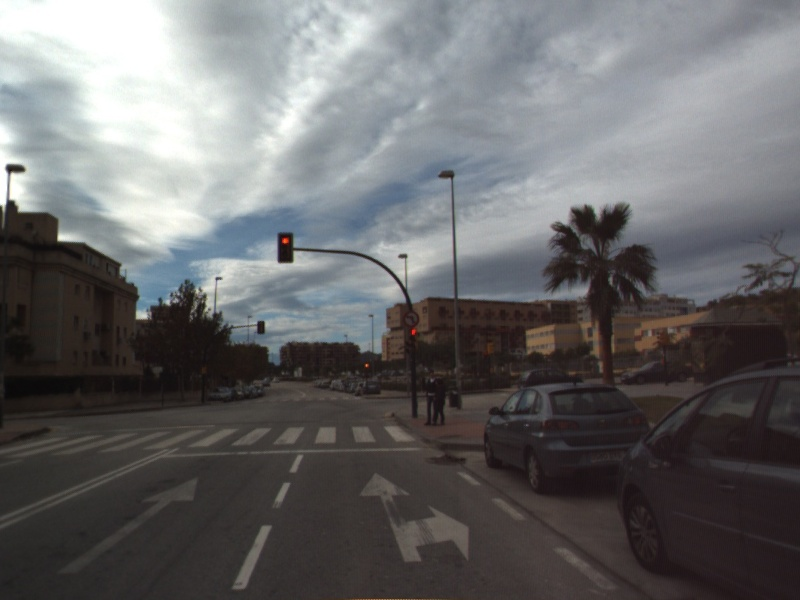STRAIGHT: (54, 475, 200, 576)
STRAIGHT_RIGHT: (357, 470, 472, 564)
